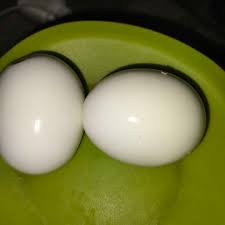Telur rebus: (78, 66, 212, 165), (0, 45, 86, 177)
